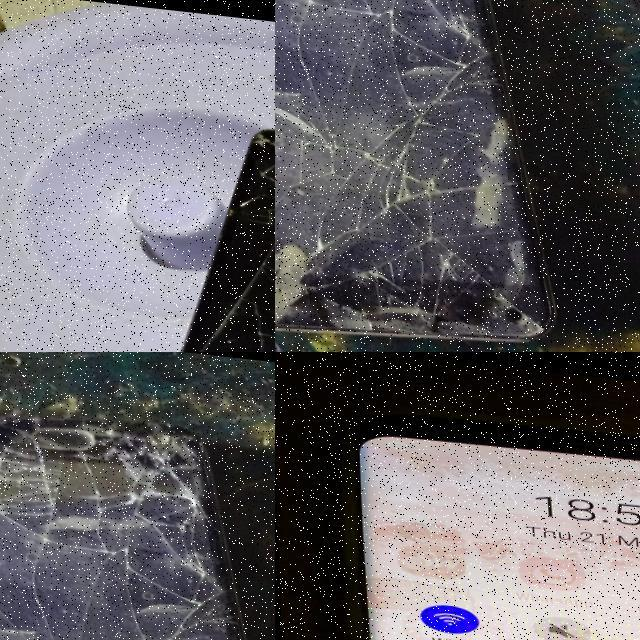screen crack: (275, 0, 565, 352), (0, 402, 275, 640), (135, 94, 275, 352)
